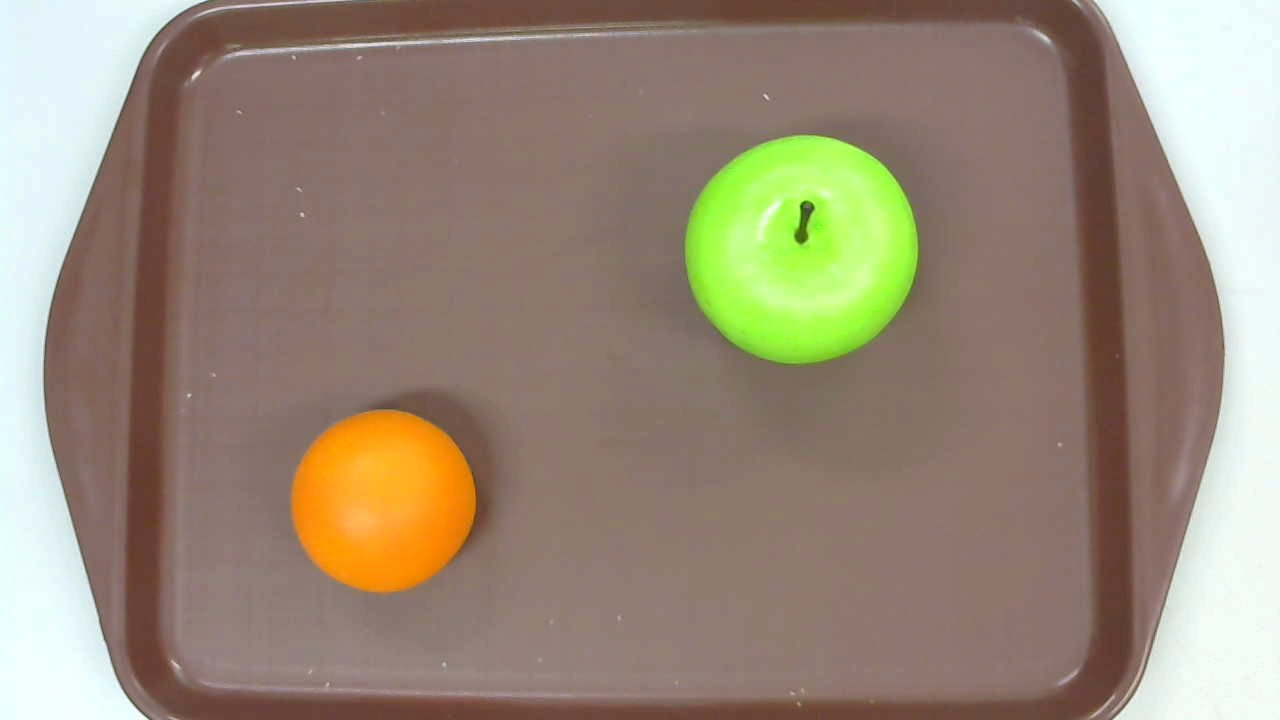bun: (291, 410, 476, 593)
green apple: (683, 134, 917, 366)
